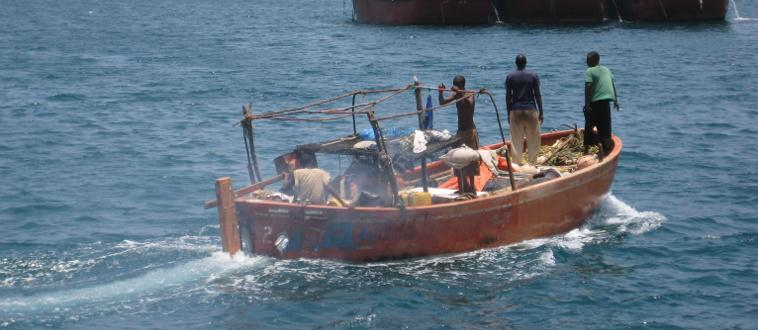Pirate boat: (204, 46, 622, 264)
